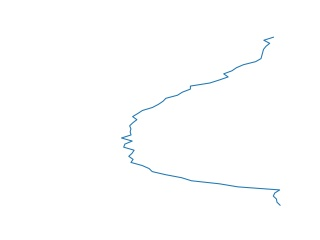underwaterDistributaryChannel: (117, 38, 292, 207)
